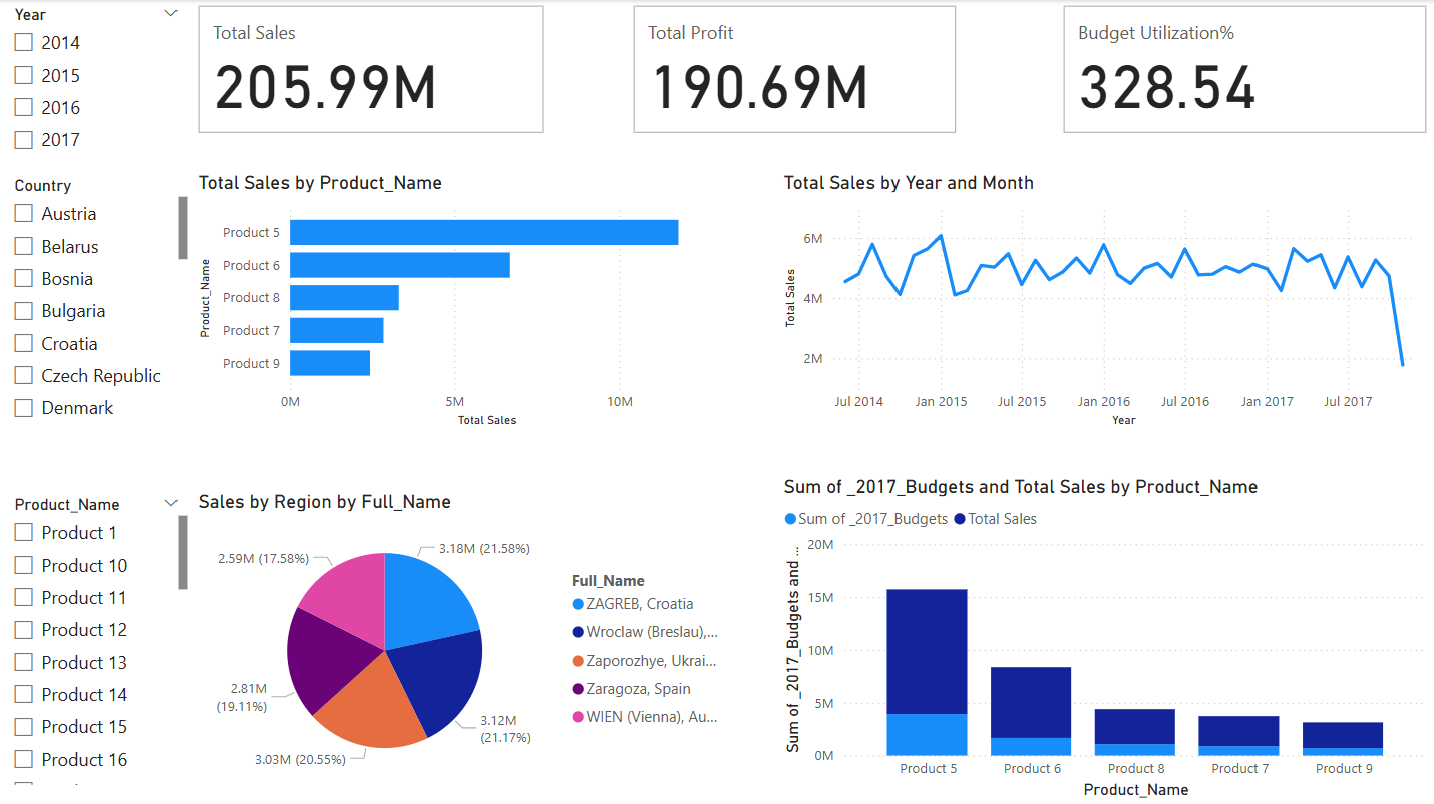

Layout of this report page (visuals, bound fields, positions):
{"tool":"powerbi","page":{"name":"Page 1","canvas":[1280,720],"ordinal":0},"visuals":[{"type":"cardVisual","fields":{"Data":["DAX Measures.Total Sales"]},"box":[171.9,0,318.8,124.5],"z":0},{"type":"cardVisual","fields":{"Data":["DAX Measures.Total Profit"]},"box":[560.6,0,298.2,124.5],"z":1},{"type":"cardVisual","fields":{"Data":["DAX Measures.Budget Utilization%"]},"box":[944.8,0,334.9,124.5],"z":2},{"type":"clusteredBarChart","fields":{"Category":["Products.Product_Name"],"Y":["DAX Measures.Total Sales"]},"box":[171.9,153.1,456.7,233.7],"z":3},{"type":"pieChart","fields":{"Category":["Regions.Full_Name"],"Y":["DAX Measures.Sales by Region"]},"box":[171.9,438.8,486.3,268.7],"z":4},{"type":"lineChart","fields":{"Category":["Sales_Order.OrderDate.Variation.Date Hierarchy.Year","Sales_Order.OrderDate.Variation.Date Hierarchy.Month"],"Y":["DAX Measures.Total Sales"]},"box":[694.9,153.1,584.8,233.7],"z":5},{"type":"columnChart","fields":{"Category":["Products.Product_Name"],"Y":["Sum(2017_Budgts._2017_Budgets)","DAX Measures.Total Sales"]},"box":[694.9,425.4,584.8,294.6],"z":6},{"type":"slicer","fields":{"Values":["Sales_Order.OrderDate.Variation.Date Hierarchy.Year"]},"box":[0,0,171.9,153.1],"z":7},{"type":"slicer","fields":{"Values":["Regions.Country"]},"box":[0,153,172,234],"z":8},{"type":"slicer","fields":{"Values":["Products.Product_Name"]},"box":[0,439,172,269],"z":9}]}

Visuals, with their boxes in screenshot pixels (x1, y1, x2, y2), scaled from the page's 1280x720 canvas onto the 1434x804 screenshot:
cardVisual - DAX Measures.Total Sales: (x1=193, y1=0, x2=550, y2=139)
cardVisual - DAX Measures.Total Profit: (x1=628, y1=0, x2=962, y2=139)
cardVisual - DAX Measures.Budget Utilization%: (x1=1058, y1=0, x2=1433, y2=139)
clusteredBarChart - Products.Product_Name x DAX Measures.Total Sales: (x1=193, y1=171, x2=704, y2=432)
pieChart - Regions.Full_Name x DAX Measures.Sales by Region: (x1=193, y1=490, x2=737, y2=790)
lineChart - Sales_Order.OrderDate.Variation.Date Hierarchy.Year x Sales_Order.OrderDate.Variation.Date Hierarchy.Month: (x1=779, y1=171, x2=1433, y2=432)
columnChart - Products.Product_Name x Sum(2017_Budgts._2017_Budgets): (x1=779, y1=475, x2=1433, y2=803)
slicer - Sales_Order.OrderDate.Variation.Date Hierarchy.Year: (x1=0, y1=0, x2=193, y2=171)
slicer - Regions.Country: (x1=0, y1=171, x2=193, y2=432)
slicer - Products.Product_Name: (x1=0, y1=490, x2=193, y2=791)
